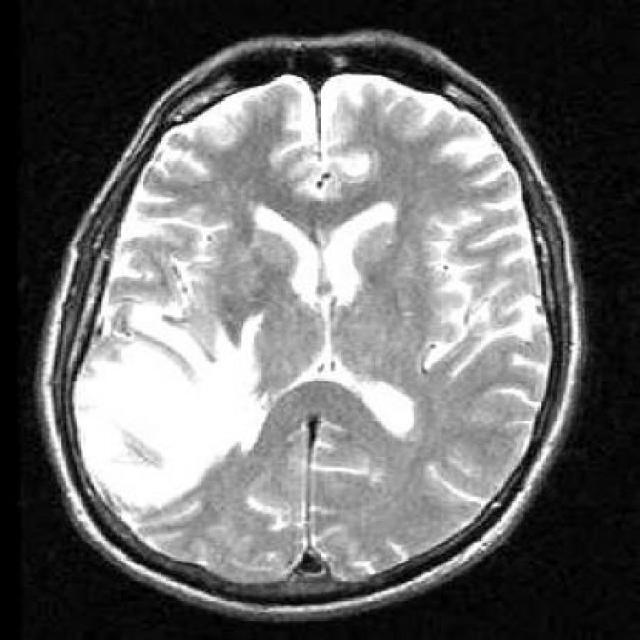Brain-Tumor: (55, 282, 278, 532)
